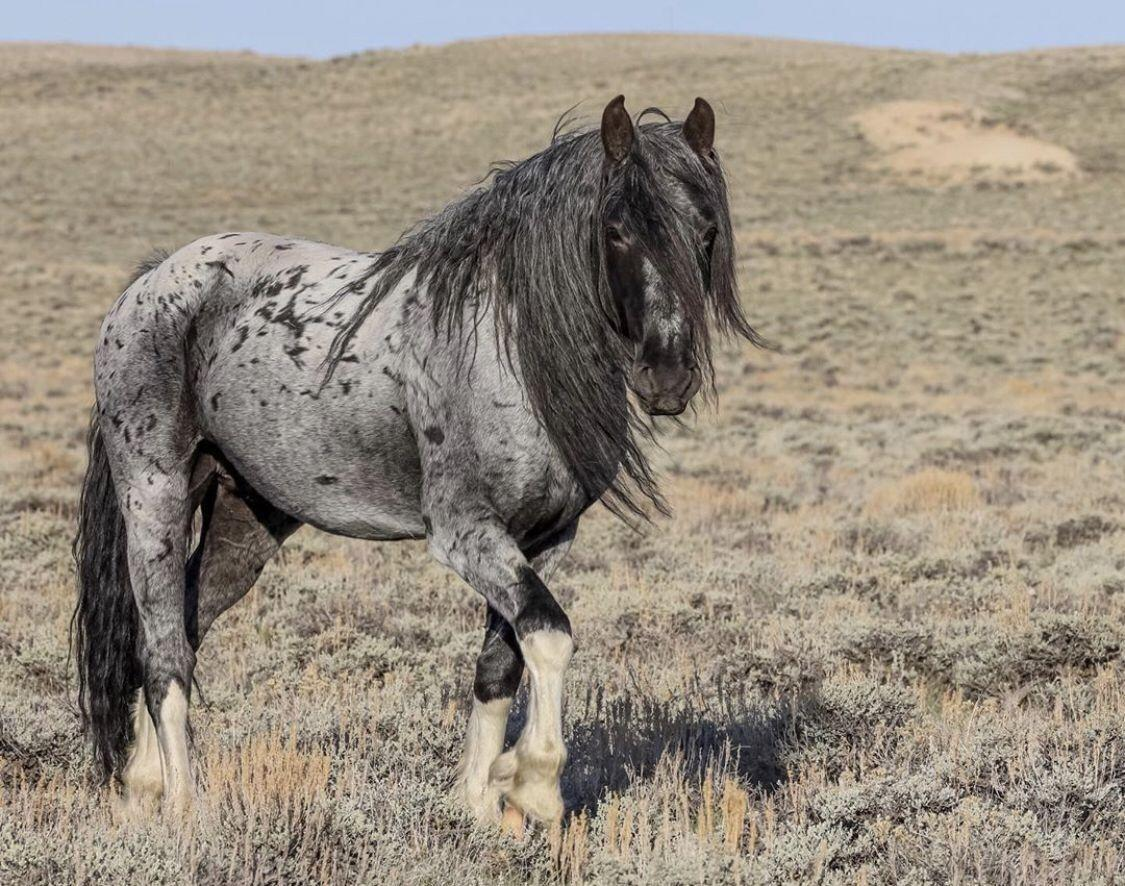horse: (67, 92, 778, 843)
